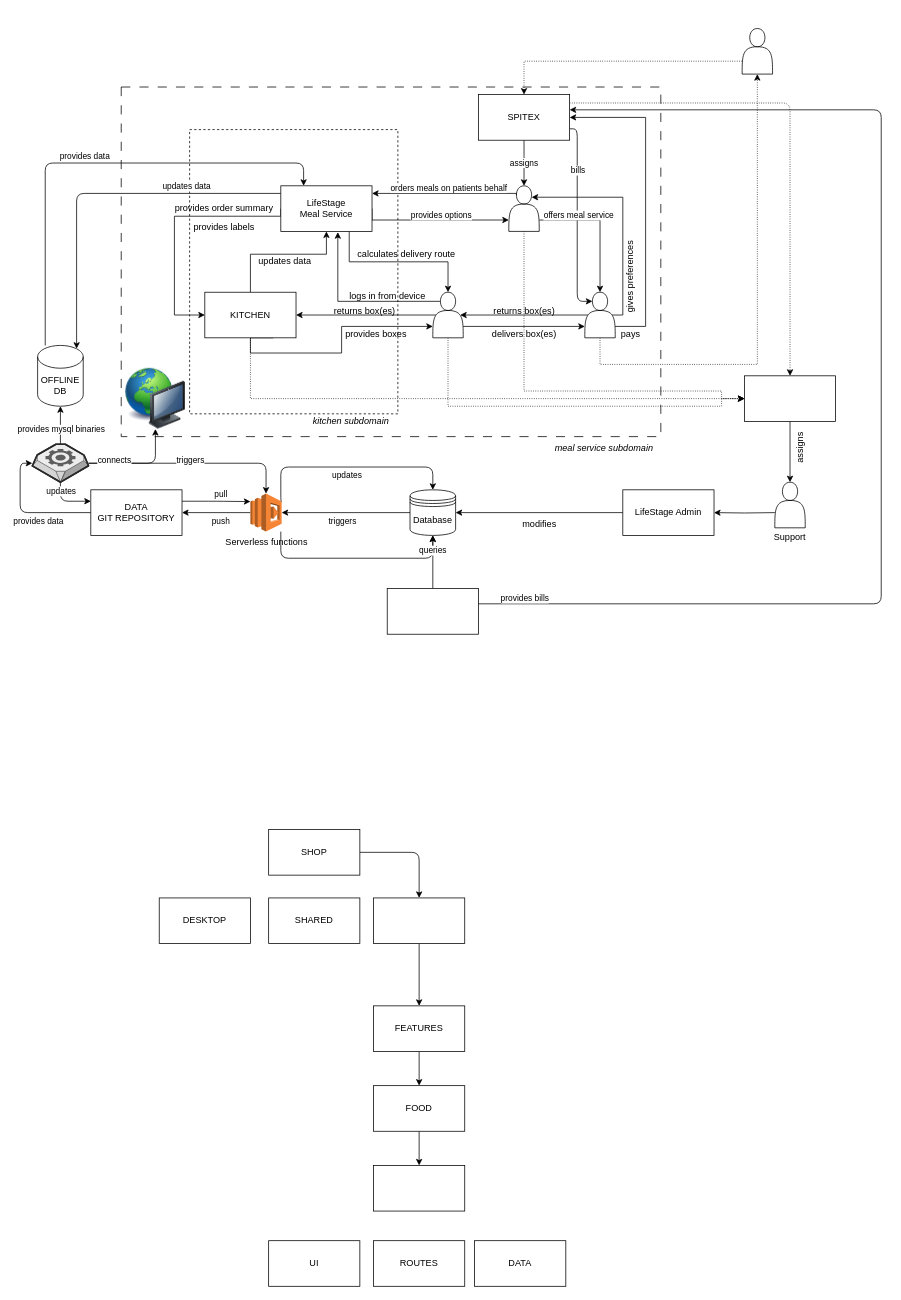
The diagram is 901 pixels wide and 1300 high, and some of its shapes have lost their labels. The shapes that lost their labels are listed below. From the top down, each one's centre as x and y in pixels, then its label:
At point (757, 51): "Family/Caretaker".
At point (523, 208): "NURSE".
At point (447, 314): "DRIVER".
At point (599, 314): "PATIENT".
At point (790, 398): "Solutions Center".
At point (432, 611): "LifeStage Billing Service".
At point (419, 920): "MOBILE".
At point (419, 1188): "SUB-FEATURE".
